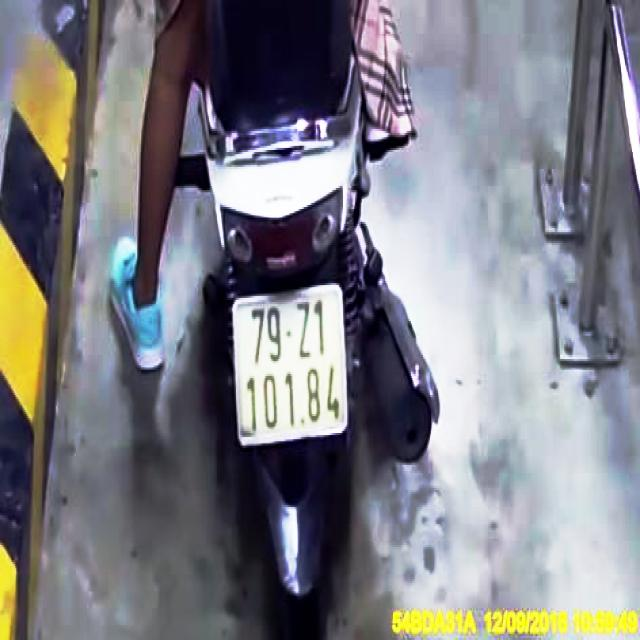license_plate: (234, 283, 345, 444)
